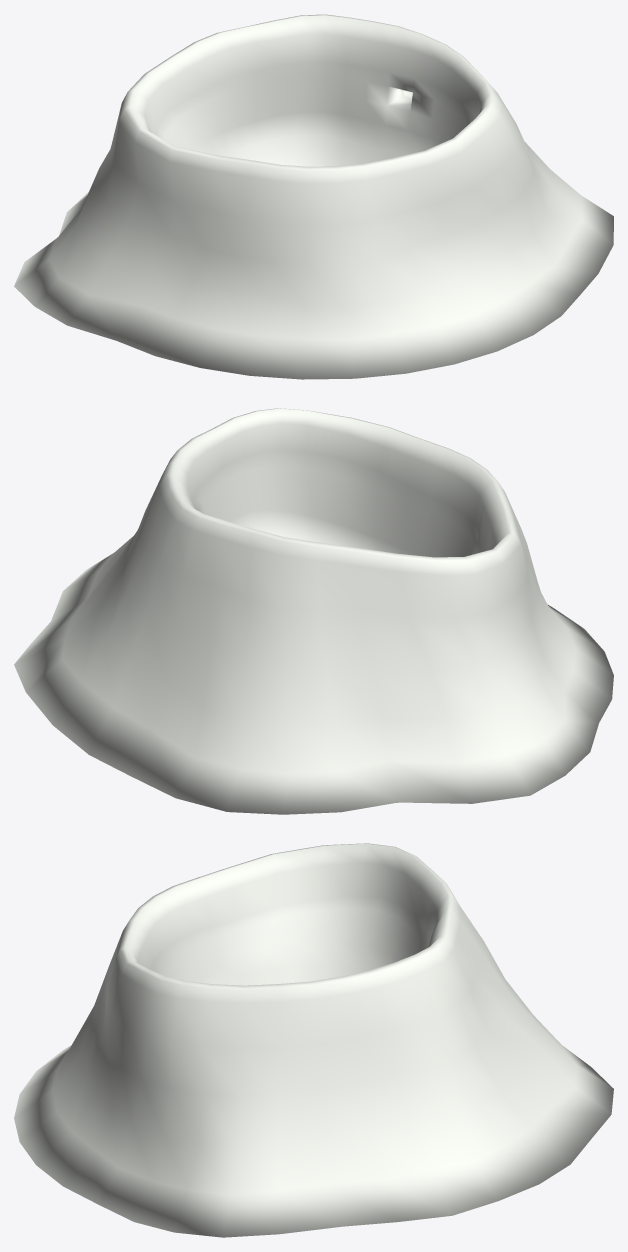
The model's file is volcano_with_cave.fbx.
The picture shows the model from 3 angles, top to bottom: view 1: azimuth 30°, elevation 25°; view 2: azimuth 150°, elevation 25°; view 3: azimuth 270°, elevation 25°; orthographic projection. The views are drawn at different scales.
Visible parts, largest first — view 1: volcano; view 2: volcano; view 3: volcano.
Part boxes in pixels (x1,y1,x2,y2): volcano: (14,14,613,379); volcano: (14,408,613,814); volcano: (14,843,613,1237).
Size of the model in its own units: 5106 by 1845 by 4825.
